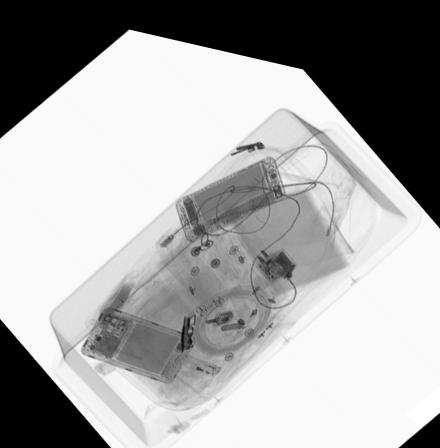Lighter: (175, 342, 224, 369)
